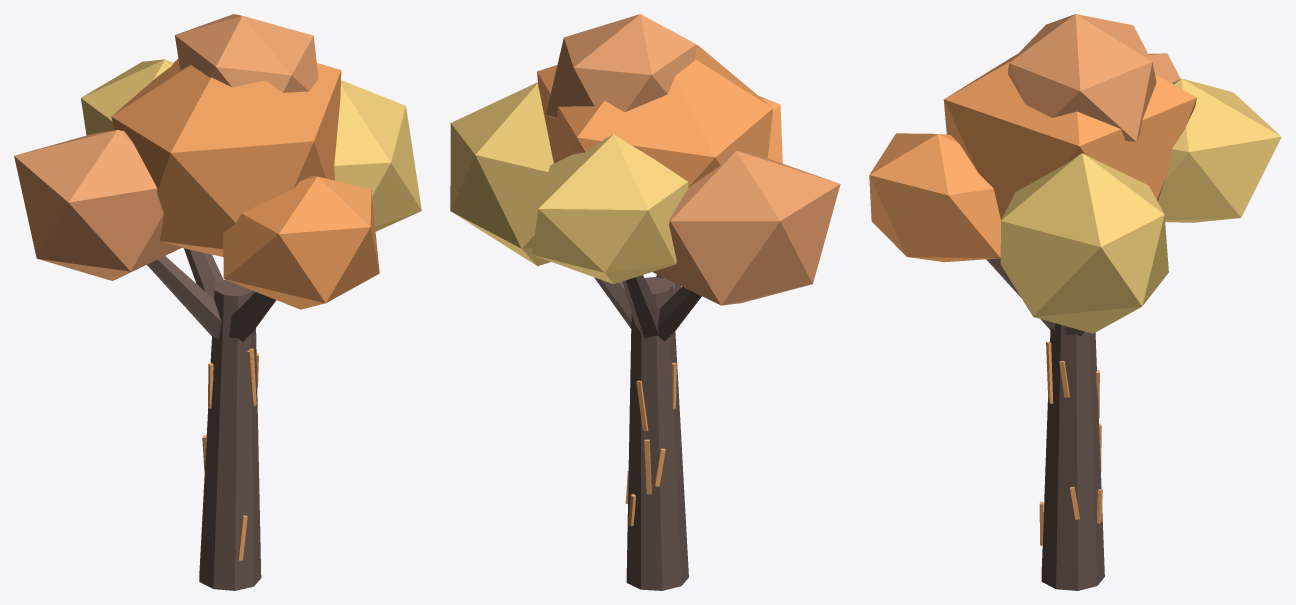
The model's file is Tree_Emberwood.fbx.
3 views of the same model, side by side, from view 1: azimuth 30°, elevation 25°; view 2: azimuth 150°, elevation 25°; view 3: azimuth 270°, elevation 25° (orthographic). The views are drawn at different scales.
Visible parts, largest first — view 1: Tree_Emberwood_Mesh; view 2: Tree_Emberwood_Mesh; view 3: Tree_Emberwood_Mesh.
Boxes of the visible parts, x1=… form: Tree_Emberwood_Mesh: x1=14, y1=14, x2=421, y2=590; Tree_Emberwood_Mesh: x1=450, y1=14, x2=840, y2=590; Tree_Emberwood_Mesh: x1=869, y1=14, x2=1281, y2=590.
Size of the model in its own units: 7.26 by 10.62 by 6.95.
